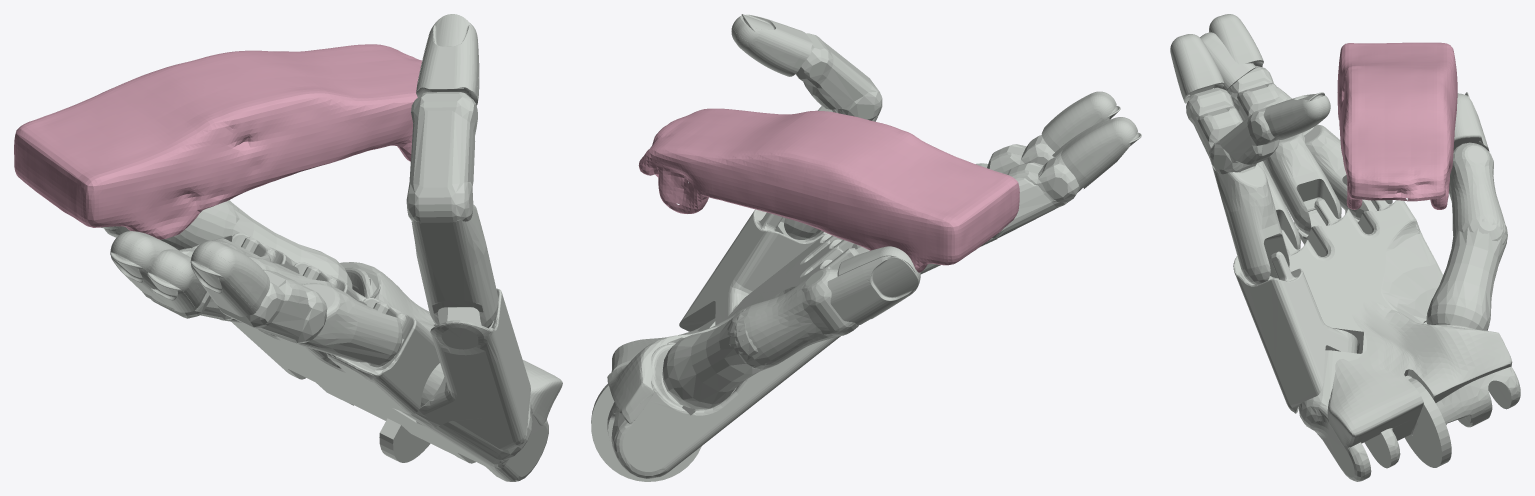
The picture shows the model from 3 angles, left to right: view 1: azimuth 30°, elevation 25°; view 2: azimuth 150°, elevation 25°; view 3: azimuth 270°, elevation 25°; orthographic projection. The views are drawn at different scales.
Visible parts, largest first — view 1: hand, world; view 2: hand, world; view 3: hand, world.
Part boxes in pixels (bbox=[...]): hand: bbox=[101, 14, 562, 481]; world: bbox=[14, 44, 421, 239]; hand: bbox=[591, 14, 1141, 481]; world: bbox=[638, 108, 1019, 272]; hand: bbox=[1170, 14, 1520, 481]; world: bbox=[1337, 42, 1457, 209].
Bounding box in the file's own units: 0.1767 × 0.1593 × 0.1414.
